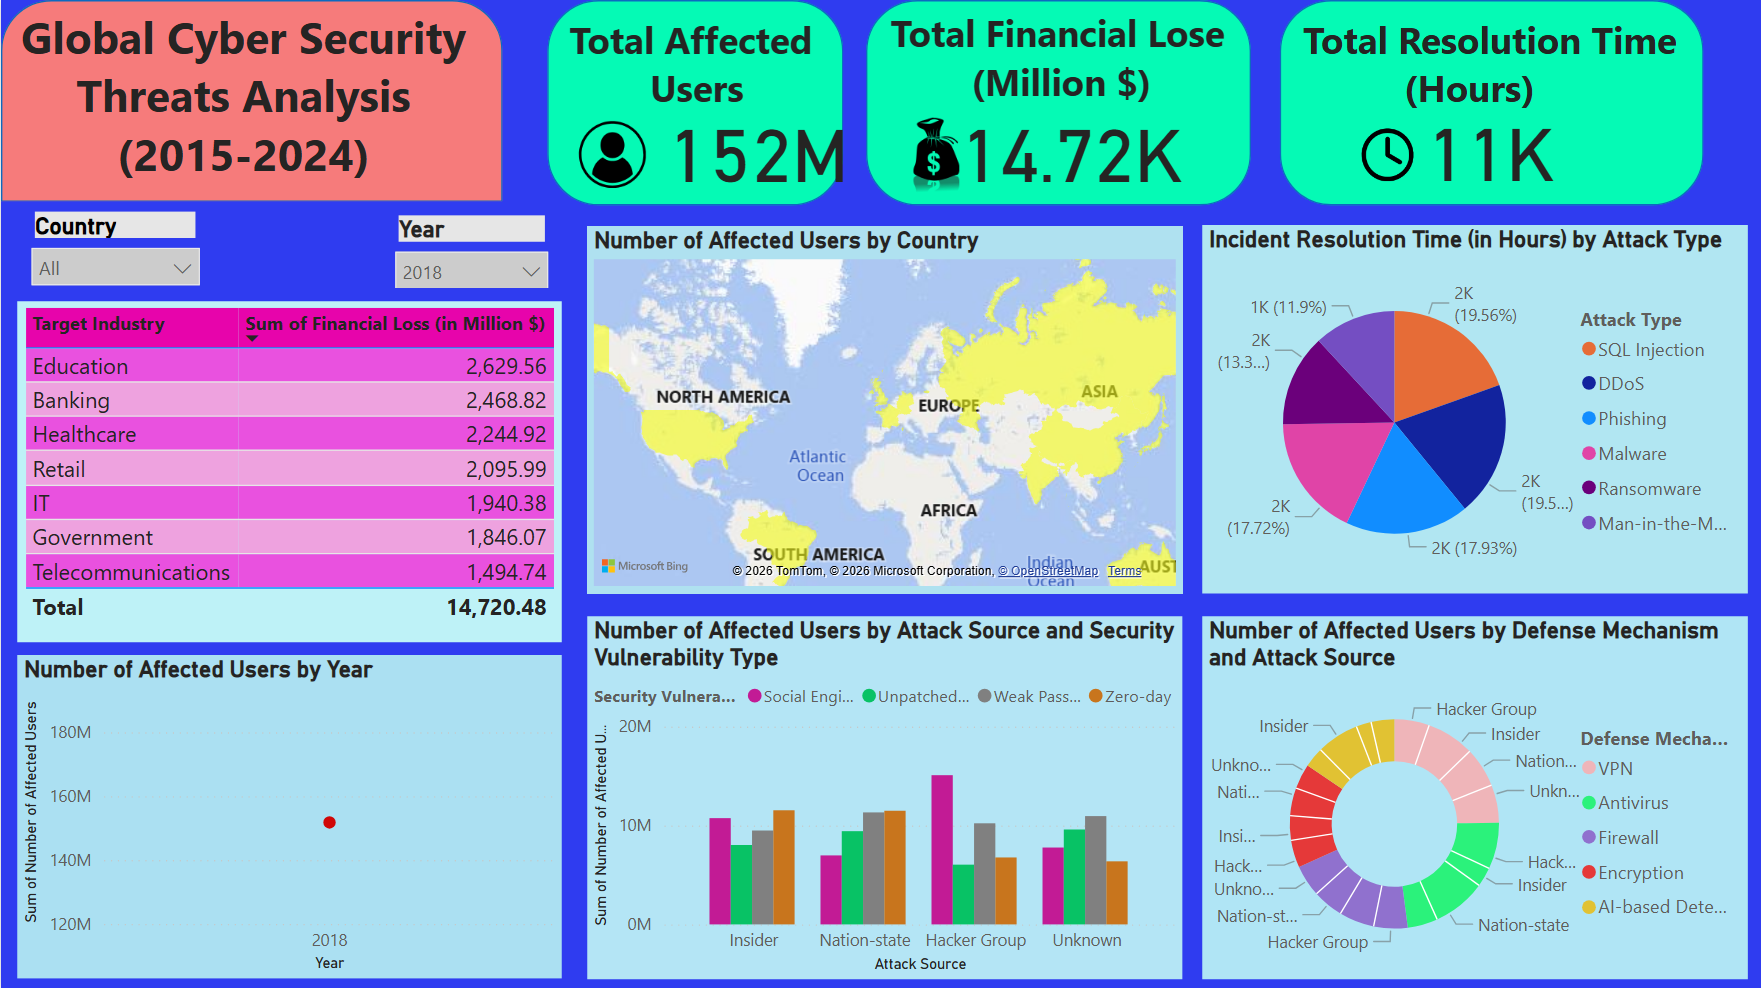

What the dashboard file says about the page in this screenshot:
{"tool":"powerbi","page":{"name":"Page 1","canvas":[1280,720],"ordinal":0},"visuals":[{"type":"shape","box":[0,0,364.8,146.7],"z":500},{"type":"shape","box":[930.3,0,308.3,149.4],"z":1000},{"type":"shape","box":[628.7,0,280,149.4],"z":2000},{"type":"shape","box":[397.1,0,215.4,149.4],"z":3000},{"type":"tableEx","fields":{"Values":["Global_Cybersecurity_Threats_2015-2024.Target Industry","Sum(Global_Cybersecurity_Threats_2015-2024.Financial Loss (in Million $))"]},"box":[12.1,219.4,395.8,247.7],"z":4000},{"type":"clusteredColumnChart","title":"Number of Affected Users by Attack Source and Security Vulnerability Type","fields":{"Category":["Global_Cybersecurity_Threats_2015-2024.Attack Source"],"Series":["Global_Cybersecurity_Threats_2015-2024.Security Vulnerability Type"],"Y":["Sum(Global_Cybersecurity_Threats_2015-2024.Number of Affected Users)"]},"box":[426.2,448.6,433.2,264.1],"z":5000},{"type":"pieChart","title":"Incident Resolution Time (in Hours) by Attack Type","fields":{"Y":["Sum(Global_Cybersecurity_Threats_2015-2024.Incident Resolution Time (in Hours))"],"Category":["Global_Cybersecurity_Threats_2015-2024.Attack Type"]},"box":[873.4,163.5,396.9,268.3],"z":6000},{"type":"donutChart","title":"Number of Affected Users by Defense Mechanism and Attack Source","fields":{"Category":["Global_Cybersecurity_Threats_2015-2024.Defense Mechanism Used"],"Series":["Global_Cybersecurity_Threats_2015-2024.Attack Source"],"Y":["Sum(Global_Cybersecurity_Threats_2015-2024.Number of Affected Users)"]},"box":[873.4,448.6,396.9,264.1],"z":7000},{"type":"filledMap","title":"Number of Affected Users by Country","fields":{"Category":["Global_Cybersecurity_Threats_2015-2024.Country"]},"box":[426.2,164.9,433.2,266.9],"z":8000},{"type":"cardVisual","fields":{"Data":["Sum(Global_Cybersecurity_Threats_2015-2024.Number of Affected Users)"]},"box":[467.1,41.7,206,133.3],"z":9000},{"type":"cardVisual","fields":{"Data":["Sum(Global_Cybersecurity_Threats_2015-2024.Financial Loss (in Million $))"]},"box":[679.9,41.7,239.6,134.6],"z":10000},{"type":"textbox","box":[0,0,352.7,140],"z":11000},{"type":"cardVisual","fields":{"Data":["Sum(Global_Cybersecurity_Threats_2015-2024.Incident Resolution Time (in Hours))"]},"box":[1018.7,41.9,234.8,132.8],"z":12000},{"type":"textbox","box":[407.9,5.4,195.2,80.8],"z":13000},{"type":"image","box":[407.9,80.8,72.7,63.3],"z":14000},{"type":"textbox","box":[642.2,1.3,278.7,80.8],"z":15000},{"type":"textbox","box":[941.8,5.6,296.2,85.2],"z":16000},{"type":"image","box":[648.9,79.4,61.9,67.3],"z":17000},{"type":"image","box":[982.4,82.4,51.7,60.1],"z":18000},{"type":"lineChart","title":"Number of Affected Users by Year","fields":{"Y":["Sum(Global_Cybersecurity_Threats_2015-2024.Number of Affected Users)"],"Category":["Global_Cybersecurity_Threats_2015-2024.Year"]},"box":[12.1,476.6,395.8,235.6],"z":19000},{"type":"slicer","fields":{"Values":["Global_Cybersecurity_Threats_2015-2024.Country"]},"box":[12.1,149.4,142.7,60.6],"z":20000},{"type":"slicer","fields":{"Values":["Global_Cybersecurity_Threats_2015-2024.Year"]},"box":[276,152.1,131.9,57.9],"z":20001}]}

Visuals, with their boxes in screenshot pixels (x1, y1, x2, y2), scaled from the page's 1280x720 canvas onto the 1761x988 screenshot:
shape: (left=0, top=0, right=502, bottom=201)
shape: (left=1280, top=0, right=1704, bottom=205)
shape: (left=865, top=0, right=1250, bottom=205)
shape: (left=546, top=0, right=843, bottom=205)
tableEx - Global_Cybersecurity_Threats_2015-2024.Target Industry x Sum(Global_Cybersecurity_Threats_2015-2024.Financial Loss (in Million $)): (left=17, top=301, right=561, bottom=641)
"Number of Affected Users by Attack Source and Security Vulnerability Type" clusteredColumnChart: (left=586, top=616, right=1182, bottom=978)
"Incident Resolution Time (in Hours) by Attack Type" pieChart: (left=1202, top=224, right=1748, bottom=593)
"Number of Affected Users by Defense Mechanism and Attack Source" donutChart: (left=1202, top=616, right=1748, bottom=978)
"Number of Affected Users by Country" filledMap: (left=586, top=226, right=1182, bottom=593)
cardVisual - Sum(Global_Cybersecurity_Threats_2015-2024.Number of Affected Users): (left=643, top=57, right=926, bottom=240)
cardVisual - Sum(Global_Cybersecurity_Threats_2015-2024.Financial Loss (in Million $)): (left=935, top=57, right=1265, bottom=242)
textbox: (left=0, top=0, right=485, bottom=192)
cardVisual - Sum(Global_Cybersecurity_Threats_2015-2024.Incident Resolution Time (in Hours)): (left=1402, top=57, right=1725, bottom=240)
textbox: (left=561, top=7, right=830, bottom=118)
image: (left=561, top=111, right=661, bottom=198)
textbox: (left=884, top=2, right=1267, bottom=113)
textbox: (left=1296, top=8, right=1703, bottom=125)
image: (left=893, top=109, right=978, bottom=201)
image: (left=1352, top=113, right=1423, bottom=196)
"Number of Affected Users by Year" lineChart: (left=17, top=654, right=561, bottom=977)
slicer - Global_Cybersecurity_Threats_2015-2024.Country: (left=17, top=205, right=213, bottom=288)
slicer - Global_Cybersecurity_Threats_2015-2024.Year: (left=380, top=209, right=561, bottom=288)
